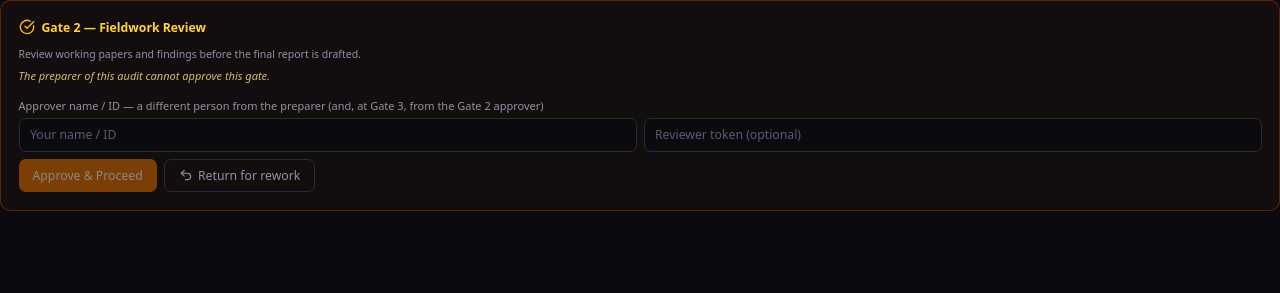
ApprovalGate › renders a 409's missing_decisions as a list instead of a raw error
Type "M. Alvarez" into the field with placeholder "Your name / ID" at [328, 135], box [18,118,636,152]
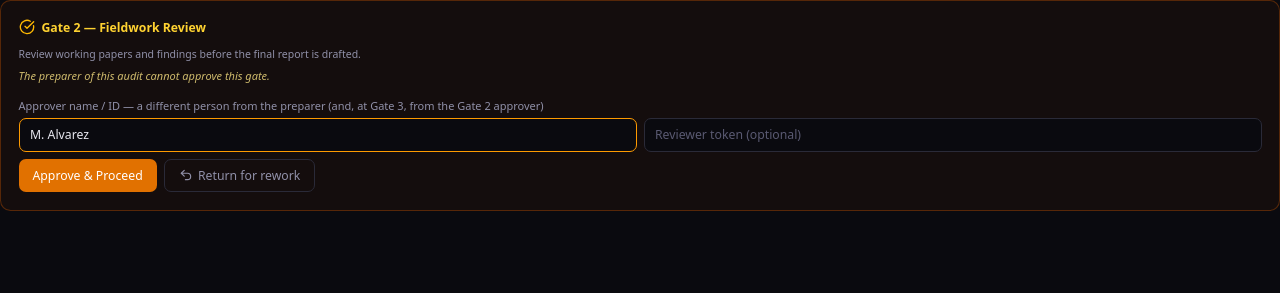
Click the button "Approve & Proceed" at [88, 175], box [18,158,157,192]
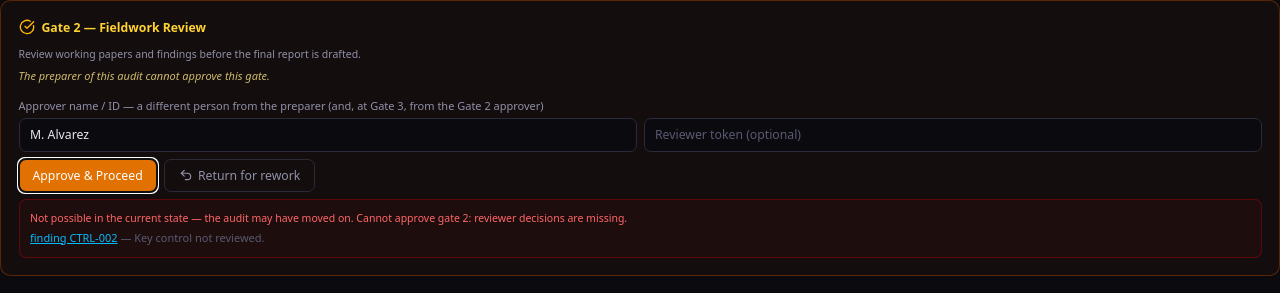
Expected: the link "finding CTRL-002" is shown, [30,230,118,245]
Expected: the text "— Key control not reviewed." is shown, [118,230,264,245]
